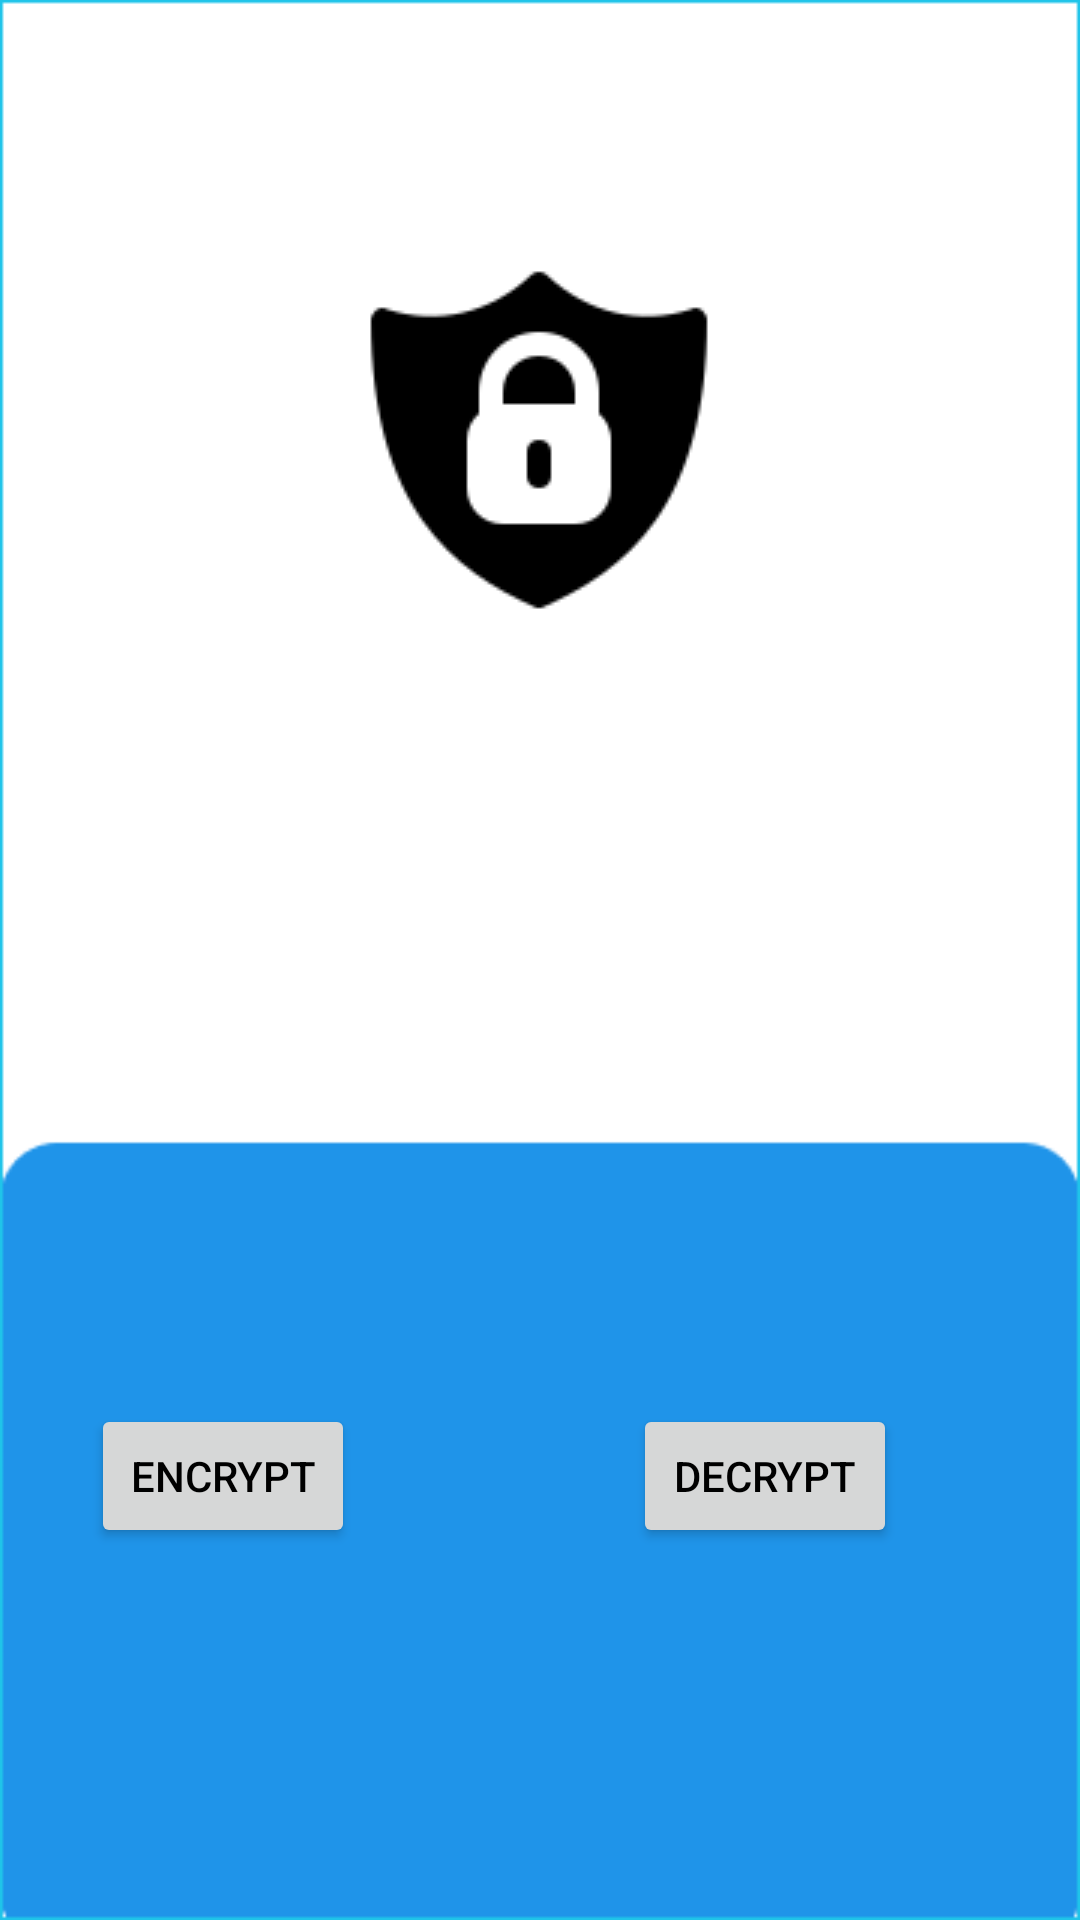

Point at icon controls on the screen. Image size 1080 x 1920, points as [x,y].
padlock: [539,440]
